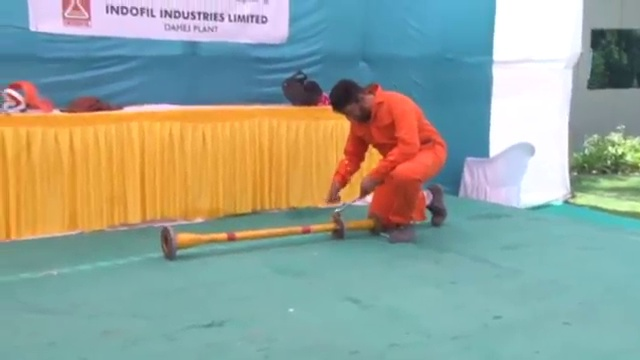helmet_off: (329, 79, 372, 122)
person: (323, 75, 449, 237)
